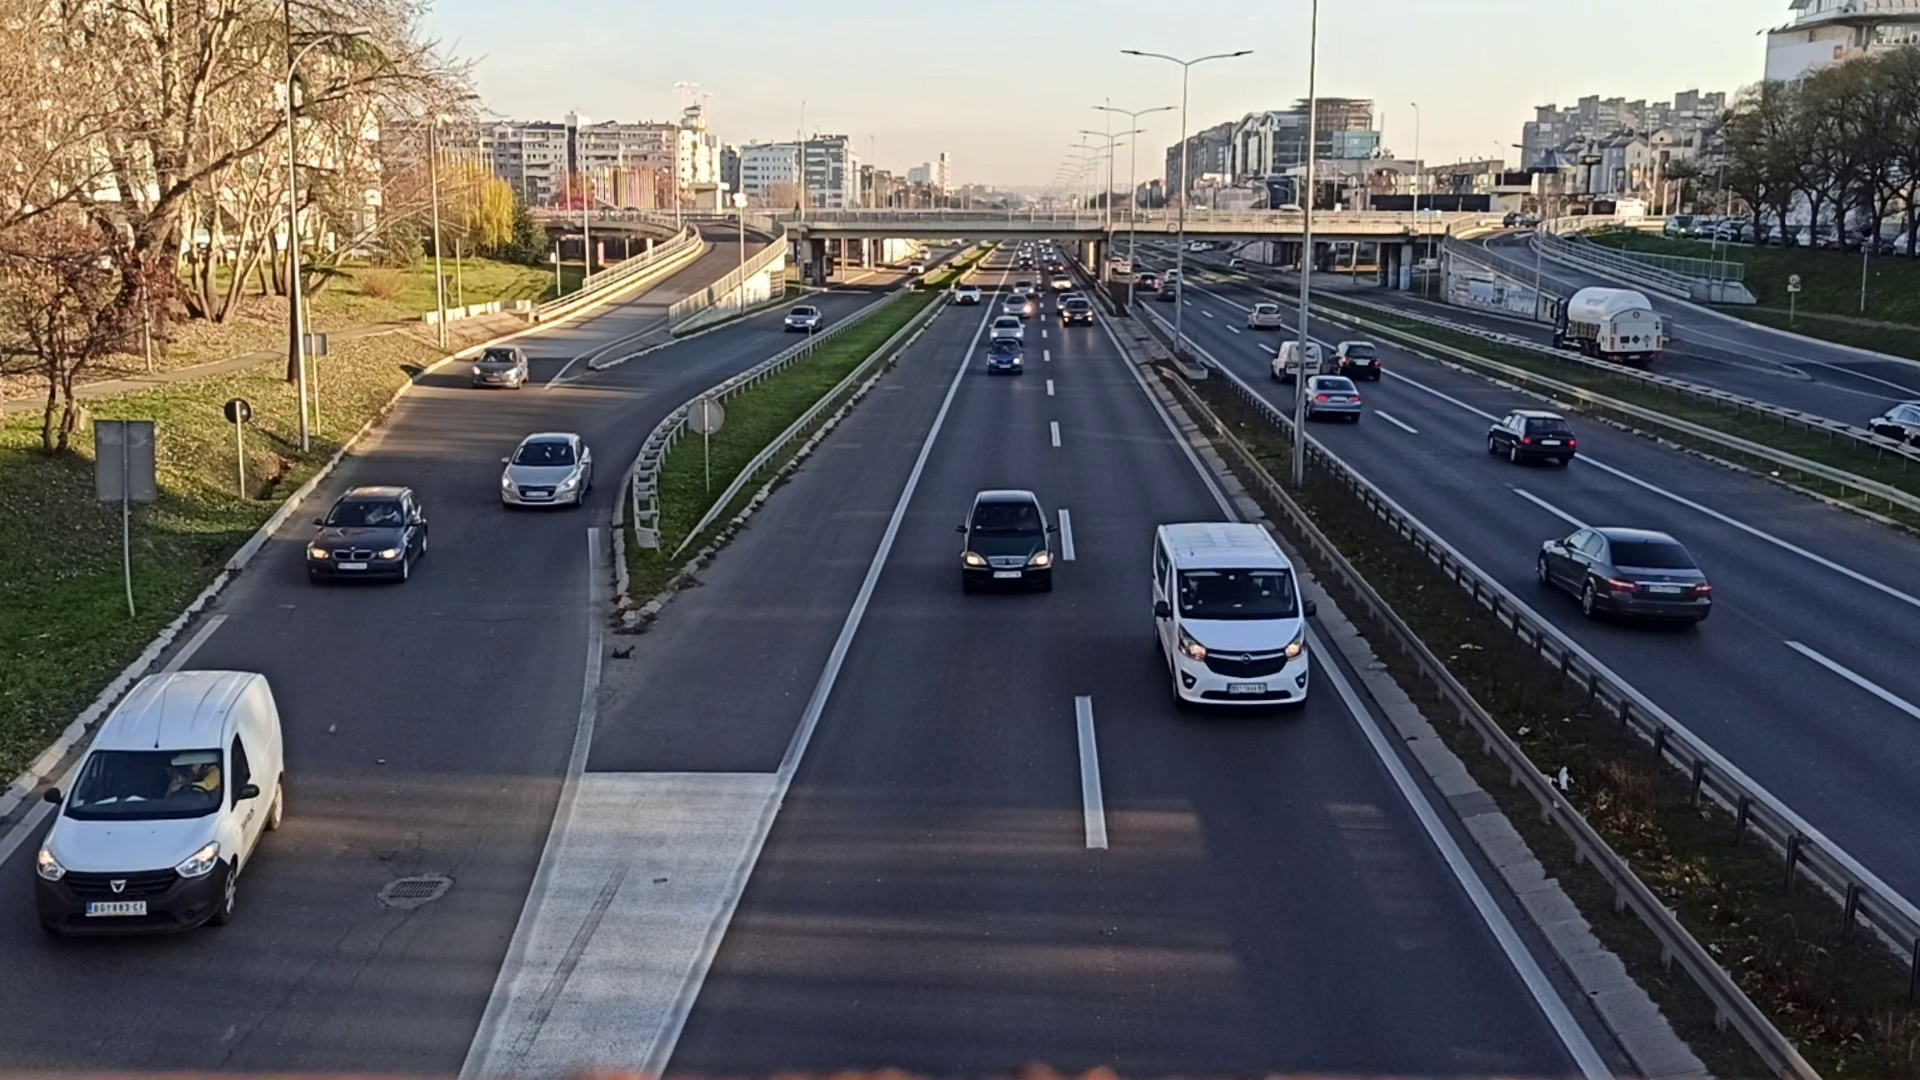car: (1538, 524, 1716, 630), (306, 484, 430, 587), (961, 487, 1054, 589), (500, 429, 595, 509), (1487, 409, 1575, 467), (1300, 376, 1361, 419), (1331, 340, 1379, 380), (986, 339, 1025, 375)
van: (36, 666, 291, 961), (1150, 520, 1311, 715), (1270, 338, 1319, 380)
